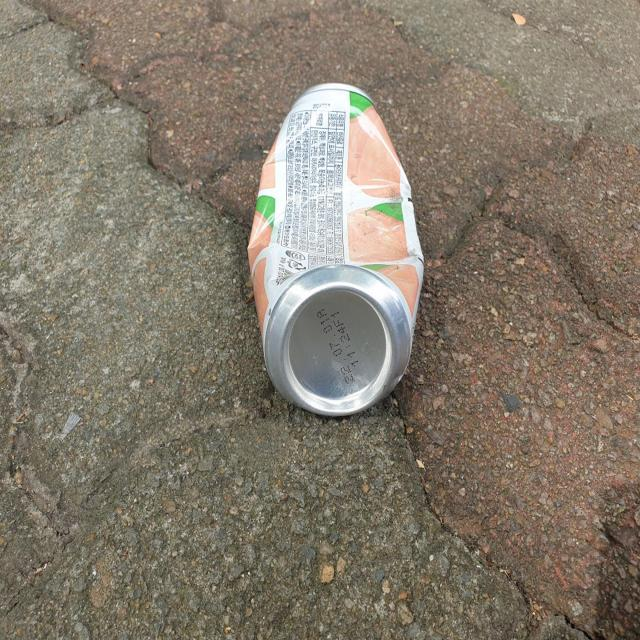can: (248, 82, 424, 416)
